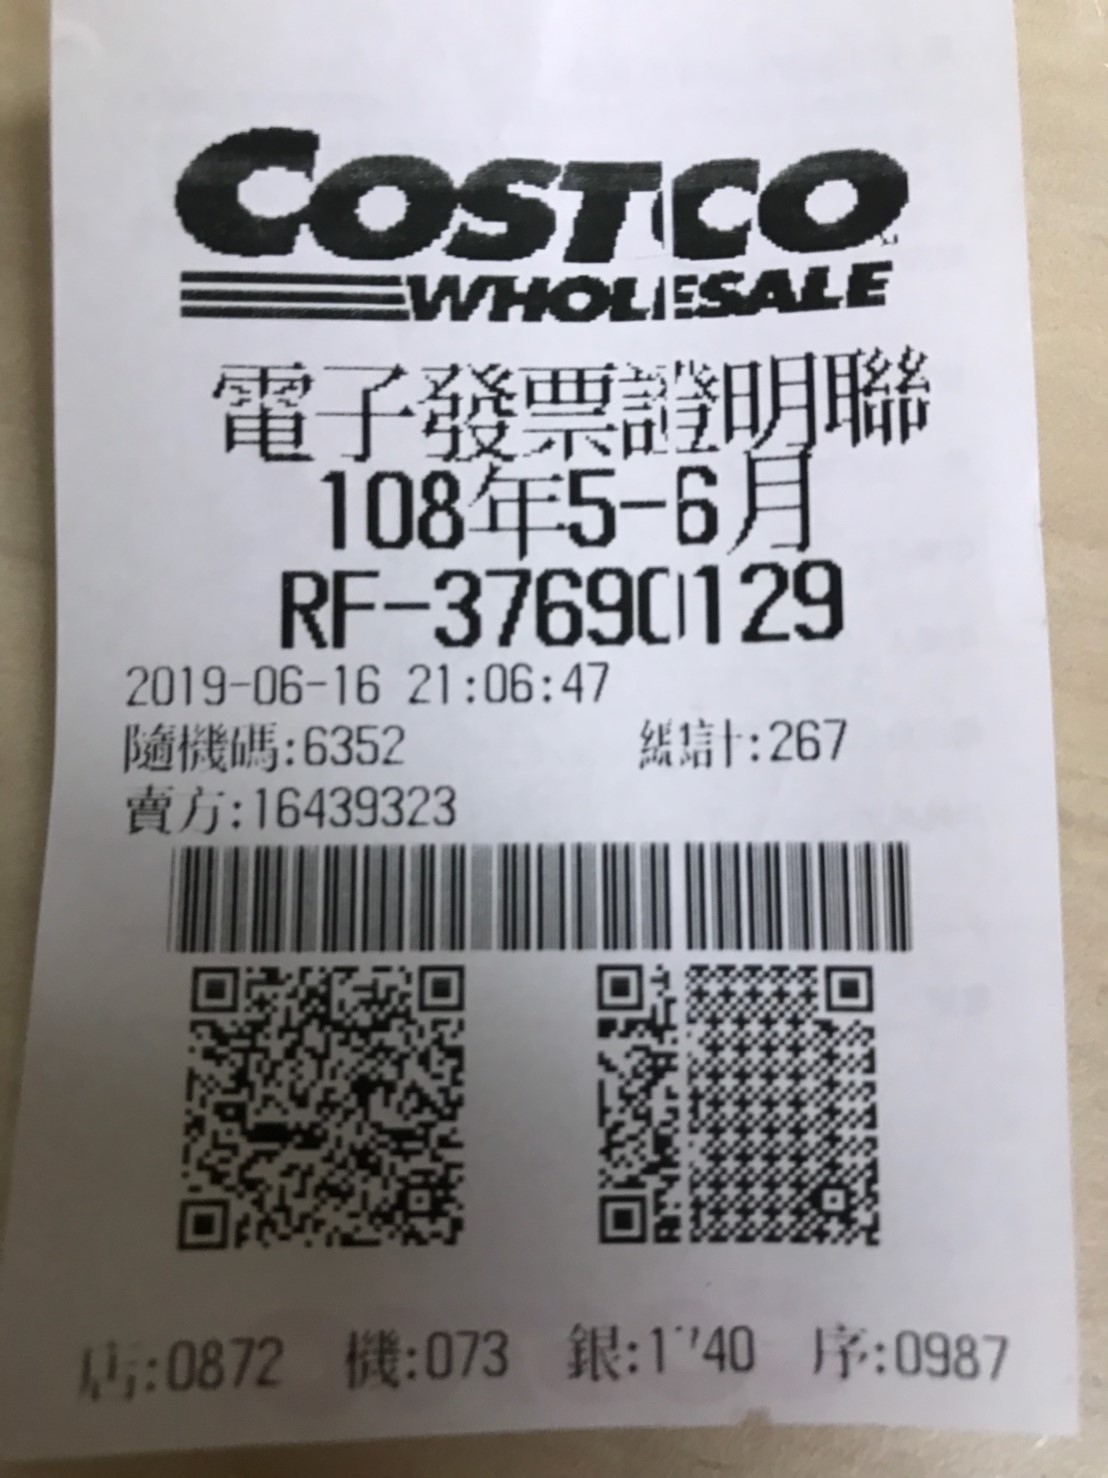Date_New: (312, 452, 824, 556)
Number_New: (428, 556, 847, 649)
